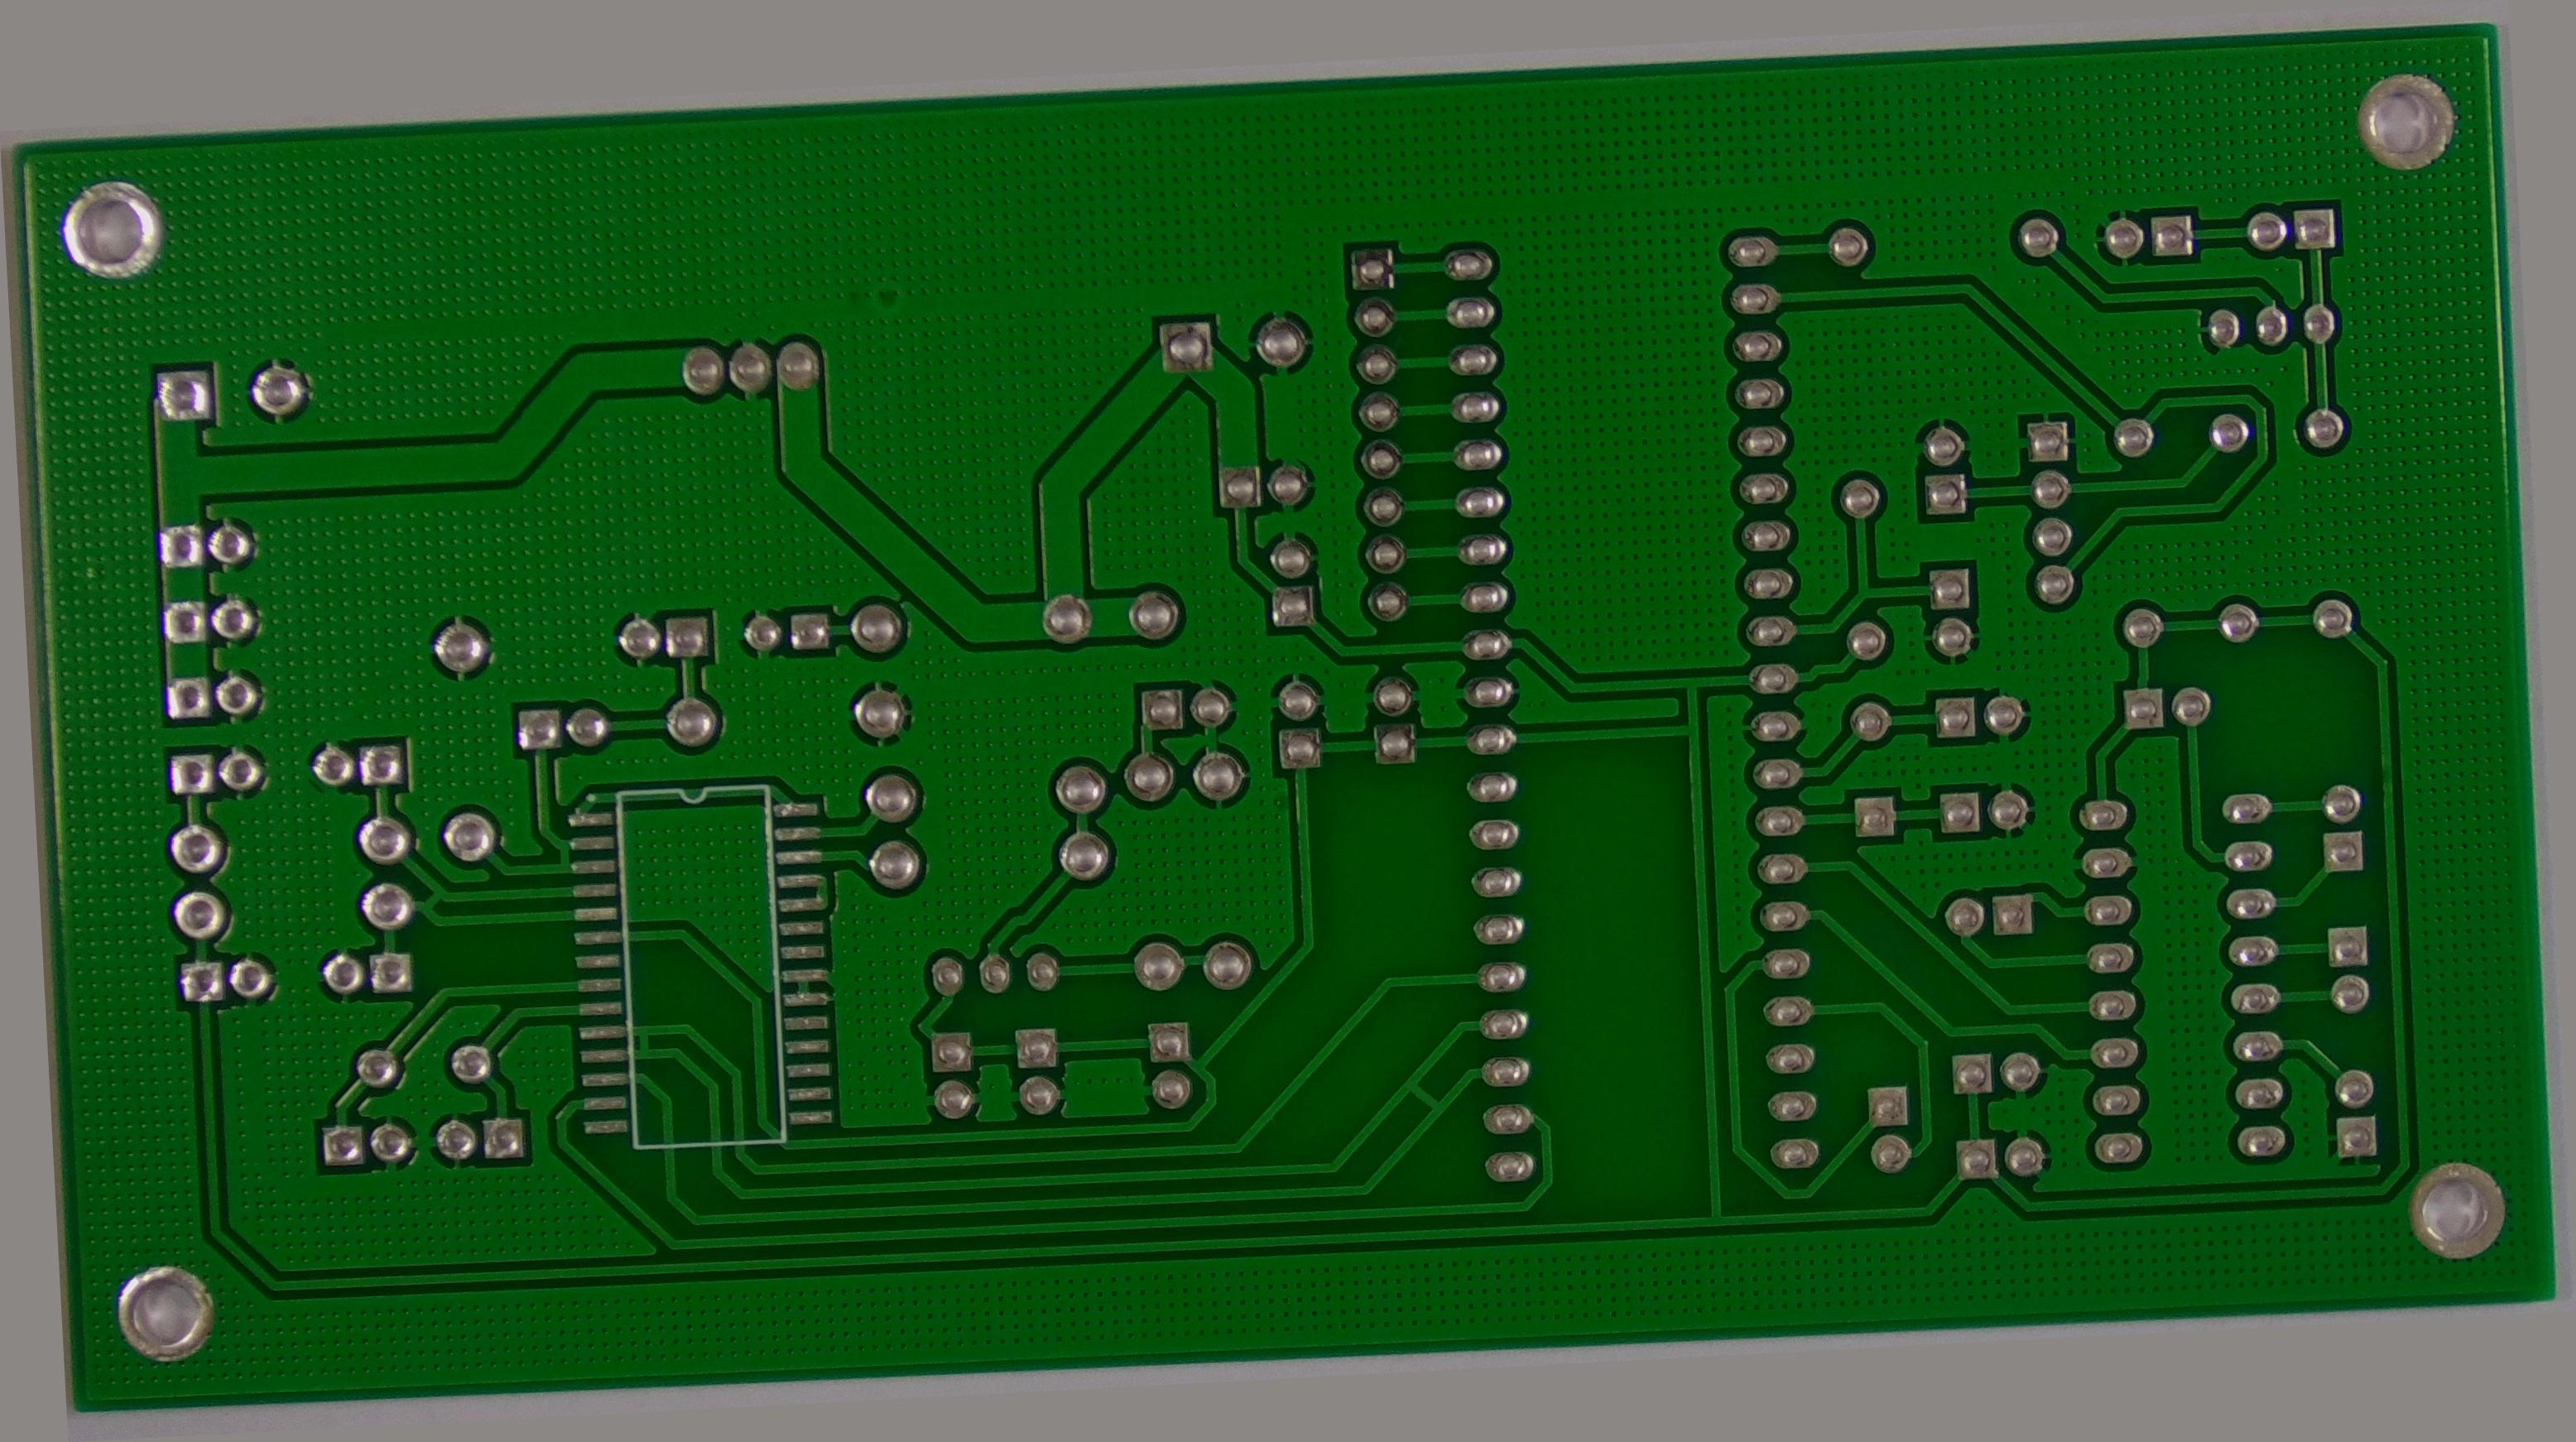short: (1398, 1070, 1456, 1132), (540, 828, 584, 874), (407, 885, 455, 925), (623, 1017, 660, 1063)
